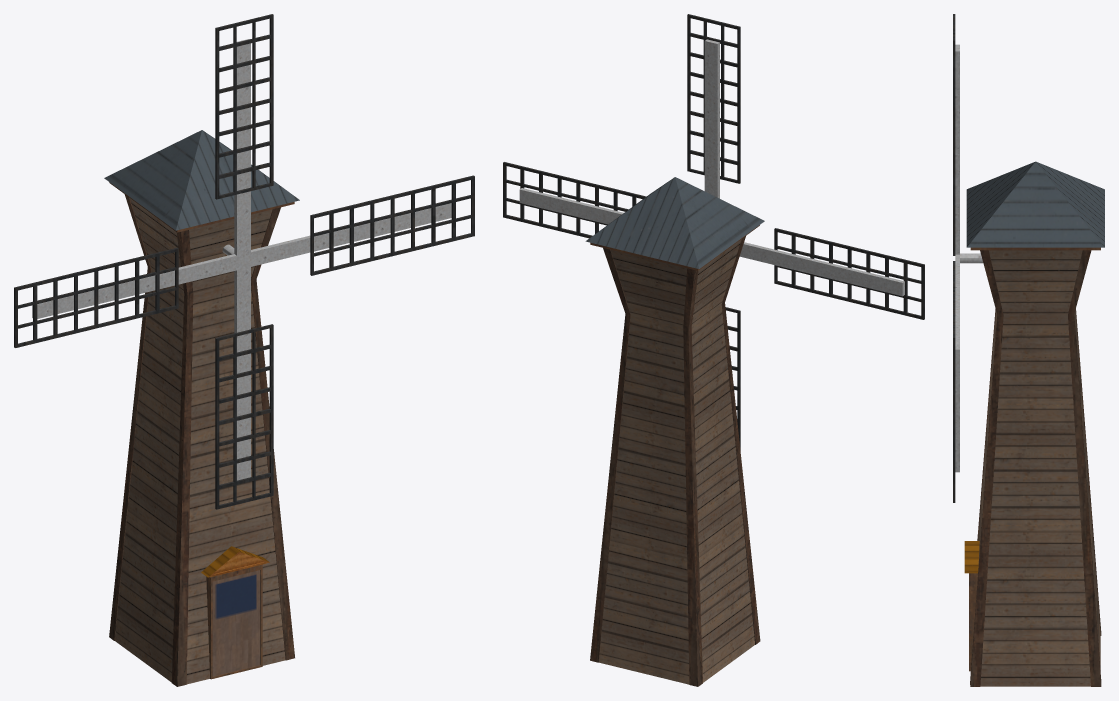
File: Windmill.fbx
The picture shows the model from 3 angles, left to right: view 1: azimuth 30°, elevation 25°; view 2: azimuth 150°, elevation 25°; view 3: azimuth 270°, elevation 25°; orthographic projection. The views are drawn at different scales.
Visible parts, largest first — view 1: Windmill, Windmill.001; view 2: Windmill, Windmill.001; view 3: Windmill, Windmill.001.
Boxes of the visible parts, x1,y1,x2,y2 form: Windmill: [104, 130, 299, 686]; Windmill.001: [14, 14, 474, 509]; Windmill: [585, 177, 764, 686]; Windmill.001: [503, 14, 924, 450]; Windmill: [964, 161, 1104, 686]; Windmill.001: [953, 14, 983, 502].
Bounding box in the file's own units: 784 × 1072 × 233.
Materials: 1 (1 with a texture image).
